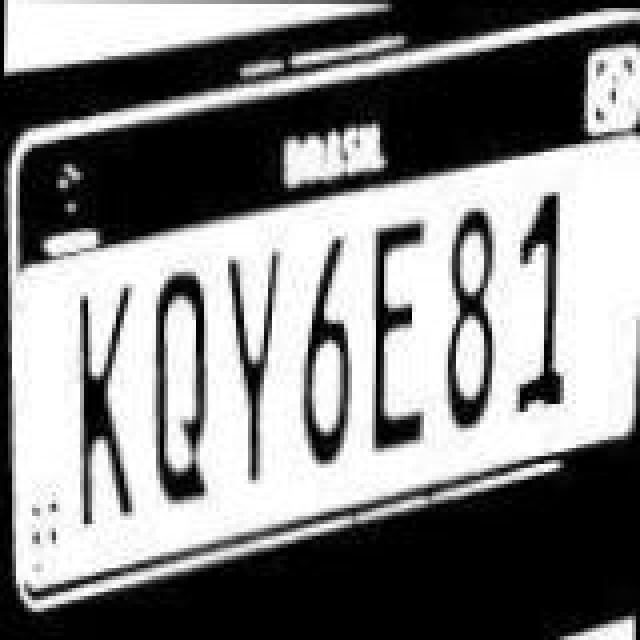1: (512, 180, 576, 428)
6: (296, 222, 360, 470)
8: (442, 196, 502, 452)
E: (368, 204, 432, 460)
K: (68, 280, 136, 528)
Q: (152, 264, 212, 512)
Y: (222, 248, 290, 488)
